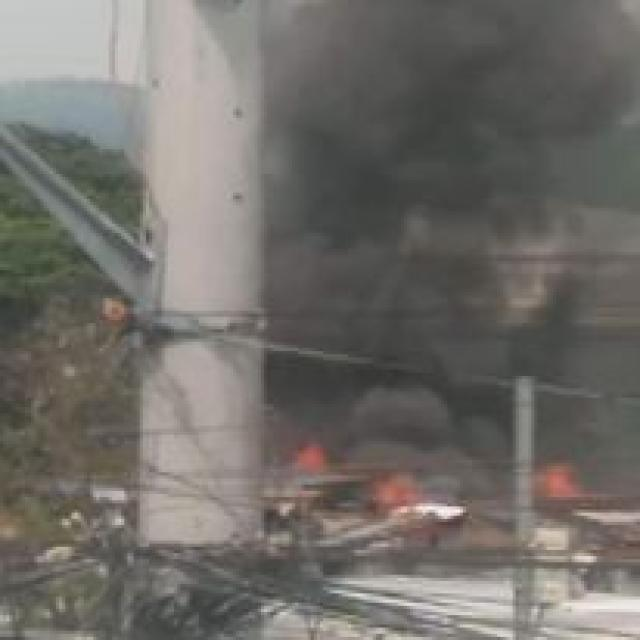Fire: (364, 477, 426, 529), (289, 440, 331, 484), (544, 462, 584, 506)
Smoke: (256, 0, 640, 439)
